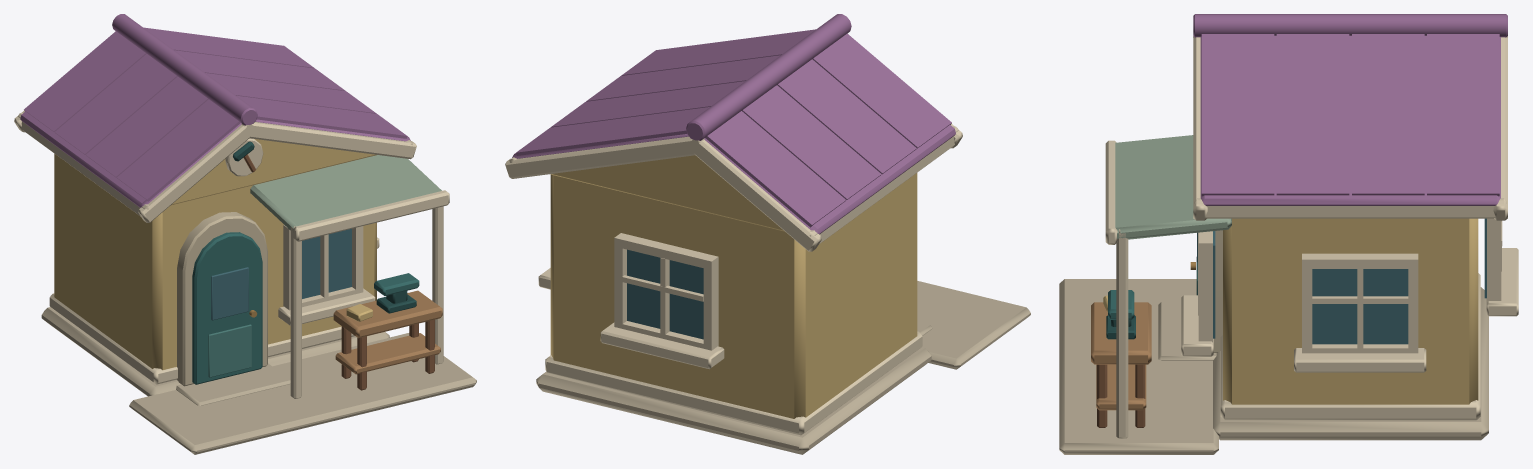
Rendered from workshop_level_2.glb.
3 views of the same model, side by side, from view 1: azimuth 30°, elevation 25°; view 2: azimuth 150°, elevation 25°; view 3: azimuth 270°, elevation 25° (orthographic). The views are drawn at different scales.
Visible parts, largest first — view 1: workshop_level_2_runtime; view 2: workshop_level_2_runtime; view 3: workshop_level_2_runtime.
Boxes of the visible parts, <box> form: workshop_level_2_runtime: <box>14,14,476,454</box>; workshop_level_2_runtime: <box>505,14,1030,454</box>; workshop_level_2_runtime: <box>1059,14,1518,454</box>.
Size of the model in its own units: 3.35 by 3.15 by 3.86.
